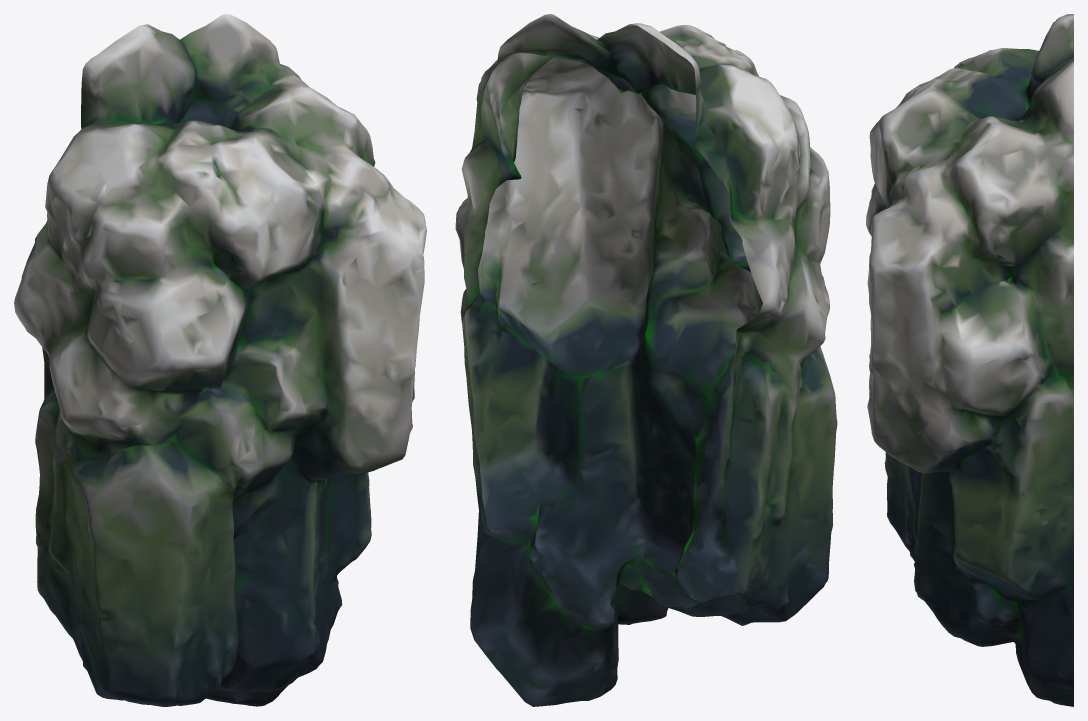
File: M_Cliff_Rock_T4.fbx
3 views of the same model, side by side, from view 1: azimuth 30°, elevation 25°; view 2: azimuth 150°, elevation 25°; view 3: azimuth 270°, elevation 25° (orthographic). The views are drawn at different scales.
Visible parts, largest first — view 1: M_Cliff_Rock_T4; view 2: M_Cliff_Rock_T4; view 3: M_Cliff_Rock_T4.
Boxes of the visible parts, x1=… form: M_Cliff_Rock_T4: x1=14, y1=14, x2=426, y2=706; M_Cliff_Rock_T4: x1=455, y1=14, x2=837, y2=706; M_Cliff_Rock_T4: x1=866, y1=14, x2=1073, y2=706.
Size of the model in its own units: 12.13 by 23.07 by 6.76.
